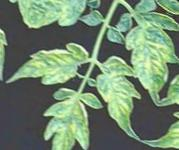Tomato leaf mosaic virus: (74, 48, 168, 142), (96, 0, 179, 105), (5, 21, 92, 110), (28, 77, 108, 150), (28, 0, 108, 54)
